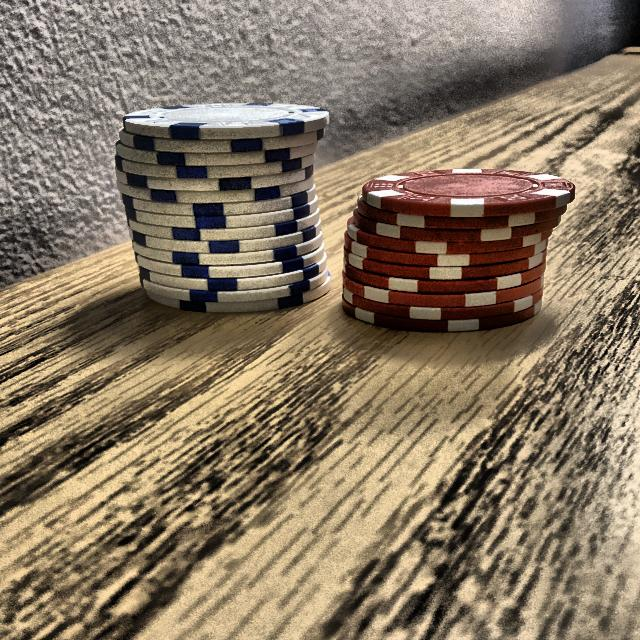Chip: (107, 79, 341, 340), (338, 143, 572, 344)
